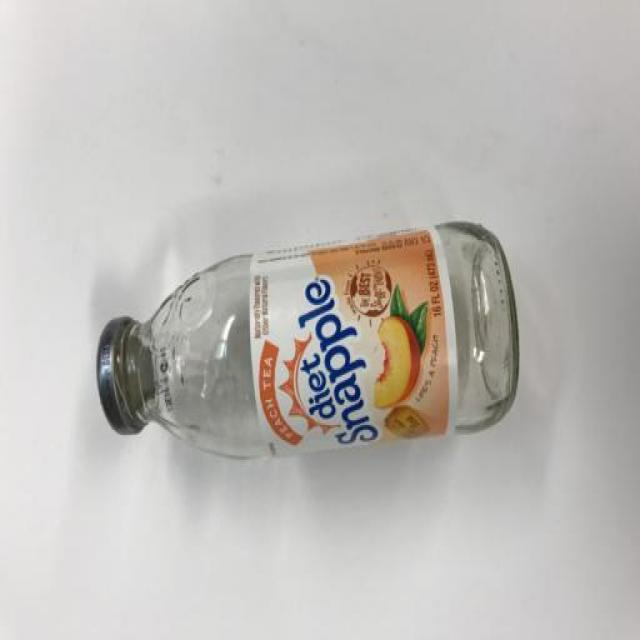glass: (63, 214, 572, 560)
